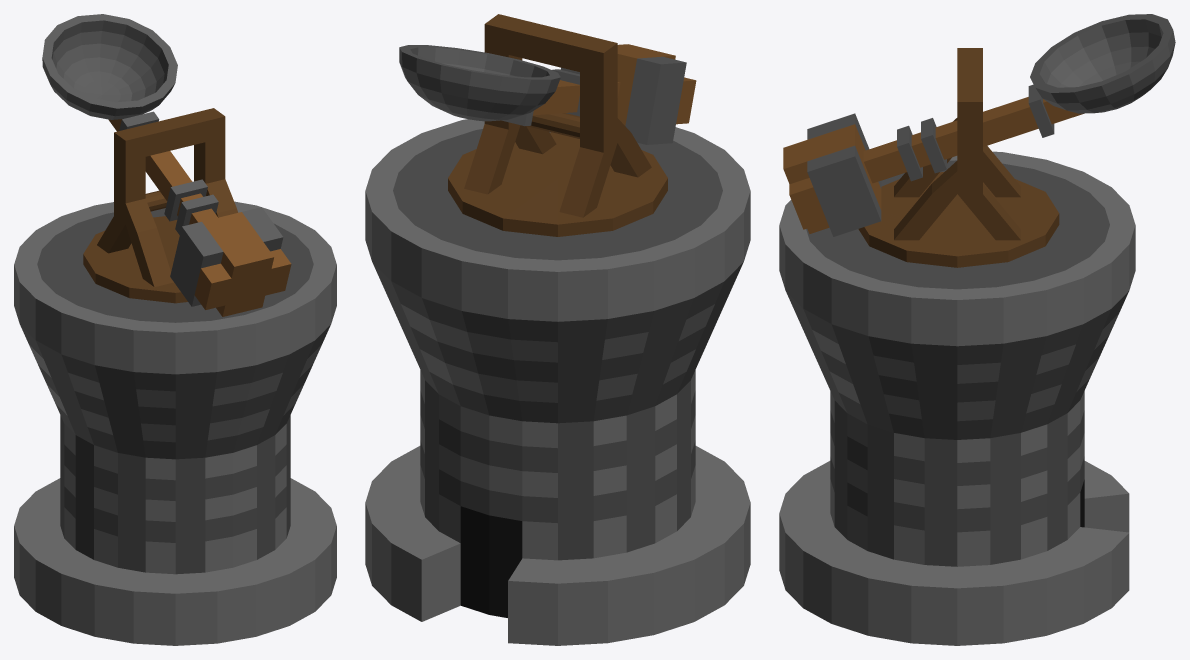
Rendered from Knights_Catapult.fbx.
3 renders of one model, left to right at view 1: azimuth 30°, elevation 25°; view 2: azimuth 150°, elevation 25°; view 3: azimuth 270°, elevation 25°, orthographic. The views are drawn at different scales.
Visible parts, largest first — view 1: Knights_Catapult, Turret; view 2: Knights_Catapult, Turret; view 3: Knights_Catapult, Turret.
Part boxes in pixels (x1,y1,x2,y2): Knights_Catapult: (14,201,336,645); Turret: (42,14,291,316); Knights_Catapult: (365,119,750,645); Turret: (399,14,696,236); Knights_Catapult: (779,151,1135,645); Turret: (783,14,1175,267).
Size of the model in its own units: 140 by 235 by 156.
